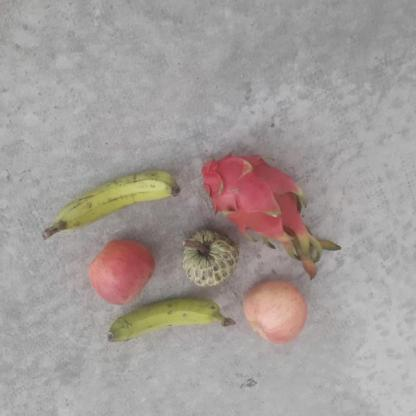annona: (179, 232, 238, 290)
apple: (88, 238, 156, 306), (240, 282, 305, 345)
banana: (53, 167, 184, 235), (109, 295, 225, 350)
pitaya: (196, 148, 302, 234)
